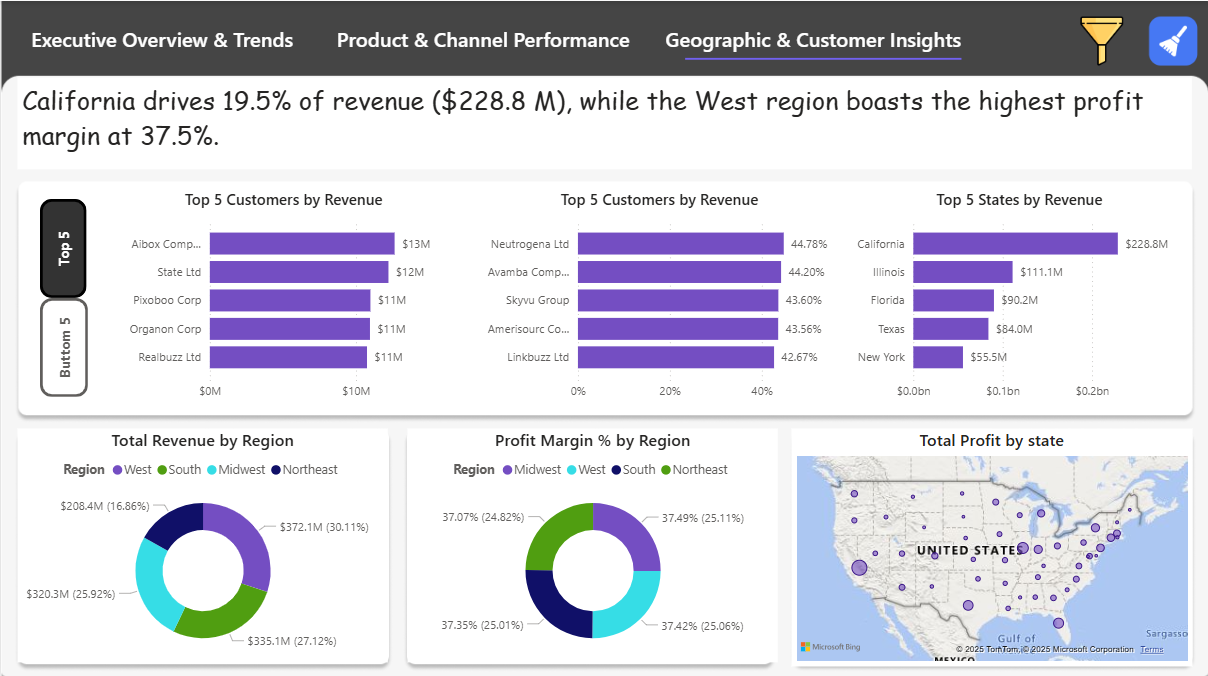

What the dashboard file says about the page in this screenshot:
{"tool":"powerbi","page":{"name":"Geographic & Customer Insights","canvas":[1280,720],"ordinal":2},"visuals":[{"type":"barChart","title":"Top 5 Customers by Revenue","fields":{"Category":["Sales_data.customer_name"],"Y":["Measures_.Total Revenue"]},"box":[116.1,198.8,367.4,232.2],"z":0},{"type":"actionButton","box":[41.4,210,49.3,105],"z":0},{"type":"barChart","title":"Top 5 Customers by Revenue","fields":{"Category":["Sales_data.customer_name"],"Y":["Measures_.Profit Margin %"]},"box":[499.5,198.8,397.7,232.2],"z":1000},{"type":"actionButton","box":[41.4,314.9,50.9,105],"z":1000},{"type":"barChart","title":"Top 5 States by Revenue","fields":{"Category":["Sales_data.state_name"],"Y":["Measures_.Total Revenue"]},"box":[897.1,198.8,365.8,232.2],"z":2000},{"type":"donutChart","title":"Total Revenue by Region","fields":{"Category":["Sales_data.us_region"],"Y":["Measures_.Total Revenue"]},"box":[17.5,453.3,392.9,248.1],"z":3000},{"type":"donutChart","title":"Profit Margin % by Region","fields":{"Category":["Sales_data.us_region"],"Y":["Measures_.Profit Margin %"]},"box":[431.1,453.3,392.9,248.1],"z":4000},{"type":"map","fields":{"Category":["Sales_data.state"],"Size":["Measures_.Total Profit"]},"box":[838.3,453.3,424.7,251.3],"z":5000},{"type":"bookmarkNavigator","title":"Executive Overview & Trends","box":[12.7,25.4,316.5,35],"z":6000},{"type":"bookmarkNavigator","title":"Product & Channel Performance","box":[353.1,25.4,316.5,35],"z":7000},{"type":"bookmarkNavigator","title":"Geographic & Customer Insights","box":[703.1,25.4,316.5,35],"z":8000},{"type":"textbox","box":[17.5,81.1,1245.4,97],"z":9000},{"type":"image","box":[1205.2,11.1,74.8,62],"z":9001},{"type":"image","box":[1129.3,11.1,76.3,62],"z":9002},{"type":"bookmarkNavigator","box":[0,0,600,50],"z":9003}]}

Visuals, with their boxes in screenshot pixels (x1, y1, x2, y2), scaled from the page's 1280x720 canvas onto the 1208x676 screenshot:
"Top 5 Customers by Revenue" barChart: select_region(110, 187, 456, 405)
actionButton: select_region(39, 197, 86, 296)
"Top 5 Customers by Revenue" barChart: select_region(471, 187, 847, 405)
actionButton: select_region(39, 296, 87, 394)
"Top 5 States by Revenue" barChart: select_region(847, 187, 1192, 405)
"Total Revenue by Region" donutChart: select_region(17, 426, 387, 659)
"Profit Margin % by Region" donutChart: select_region(407, 426, 778, 659)
map - Sales_data.state x Measures_.Total Profit: select_region(791, 426, 1192, 662)
"Executive Overview & Trends" bookmarkNavigator: select_region(12, 24, 311, 57)
"Product & Channel Performance" bookmarkNavigator: select_region(333, 24, 632, 57)
"Geographic & Customer Insights" bookmarkNavigator: select_region(664, 24, 962, 57)
textbox: select_region(17, 76, 1192, 167)
image: select_region(1137, 10, 1207, 69)
image: select_region(1066, 10, 1138, 69)
bookmarkNavigator: select_region(0, 0, 566, 47)
